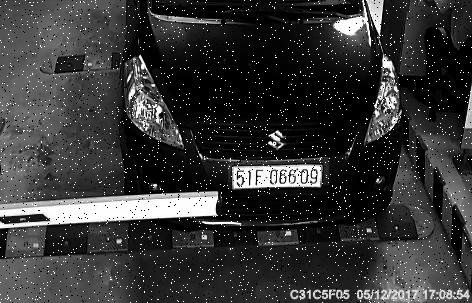License-plate: (229, 158, 330, 196)
